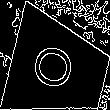O_E: (32, 41, 85, 96)
